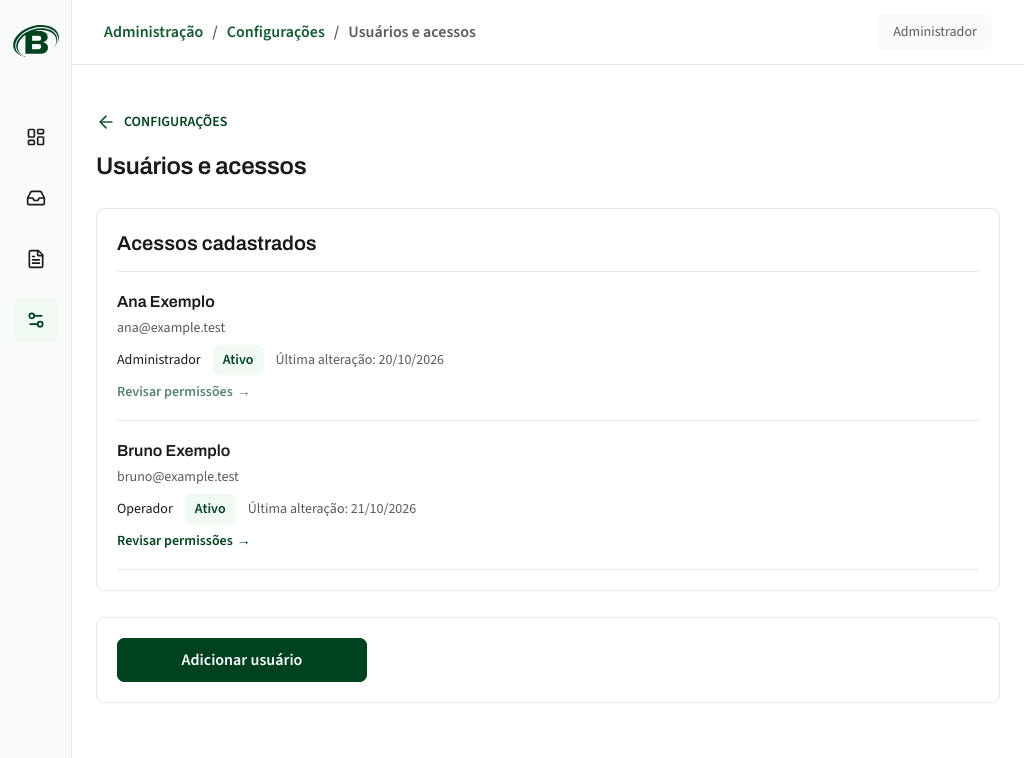
Test: ADM-12 — revisão real de permissões › altera o perfil via PATCH autenticado, confere a resposta e recarrega a lista
The image size is (1024, 758).
Check: the heading "Bruno Exemplo" is shown, box [117,442,230,459]
Click the button "Revisar permissões" below "Bruno Exemplo" at (184, 541), box [117,531,251,551]
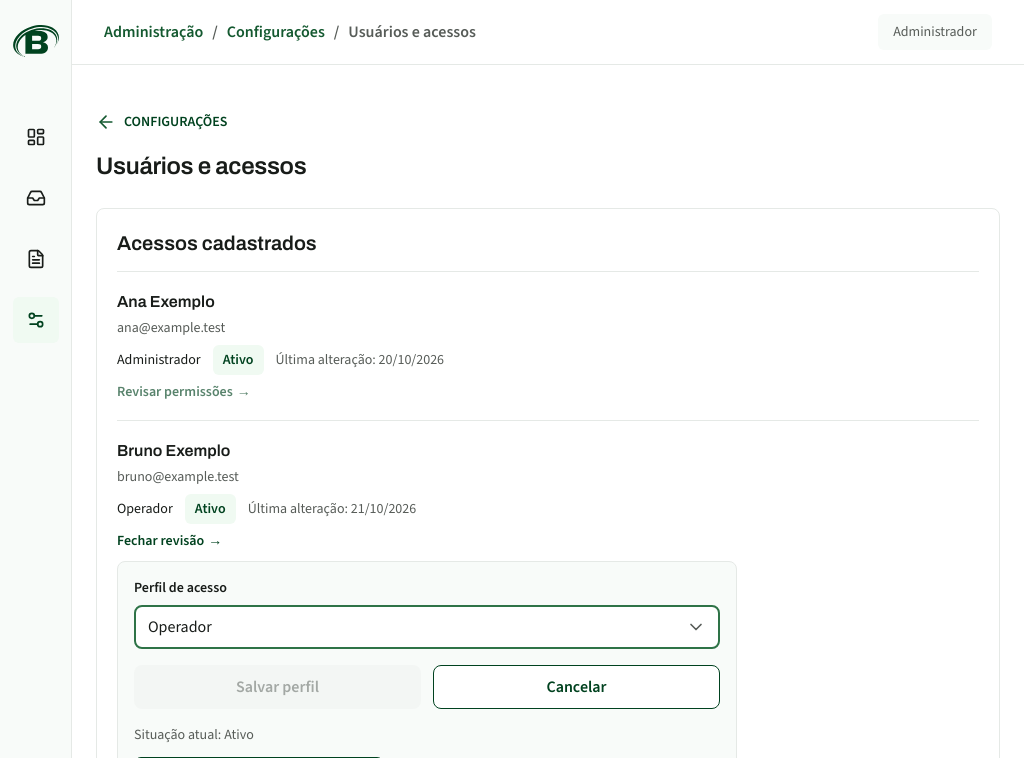
Click the dropdown named "Perfil de acesso" at (180, 626), box [134,605,720,649]
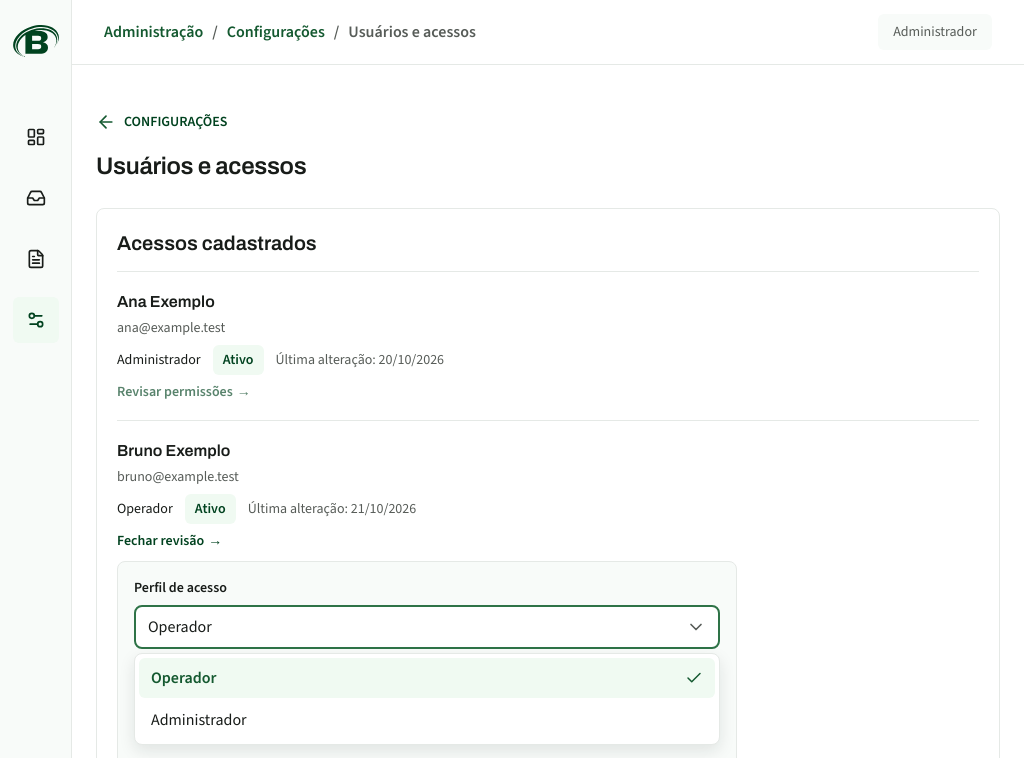
Click the option "Administrador" at (199, 720), box [139,700,715,740]
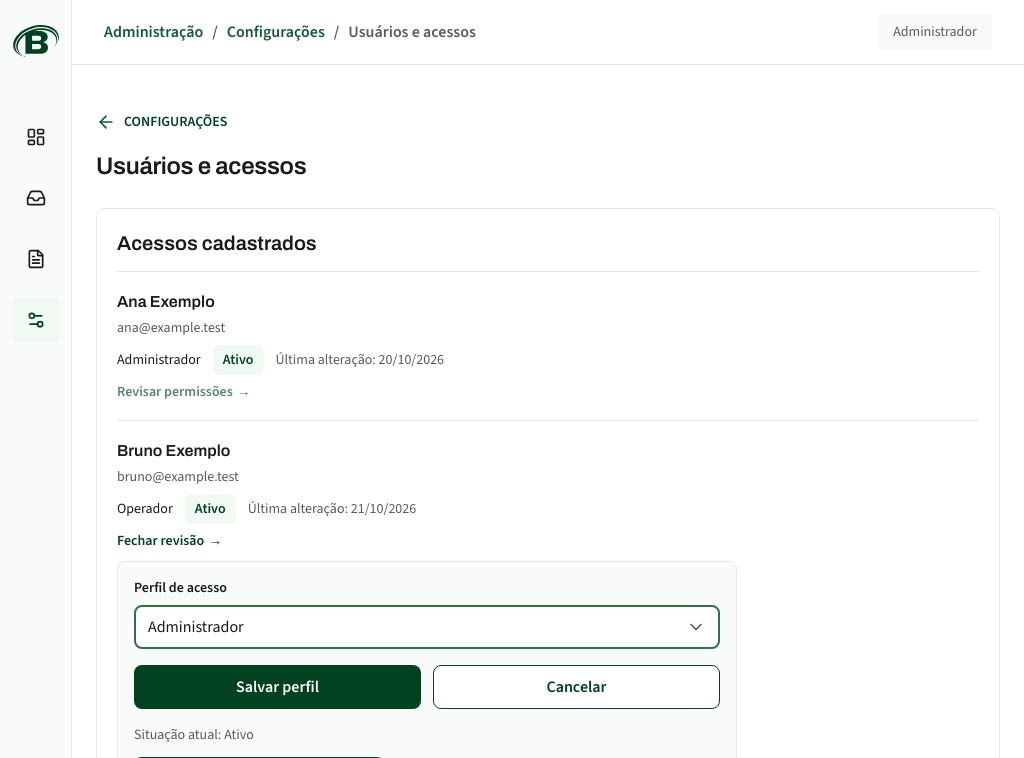
Click the button "Salvar perfil" at (278, 687), box [134,665,421,709]
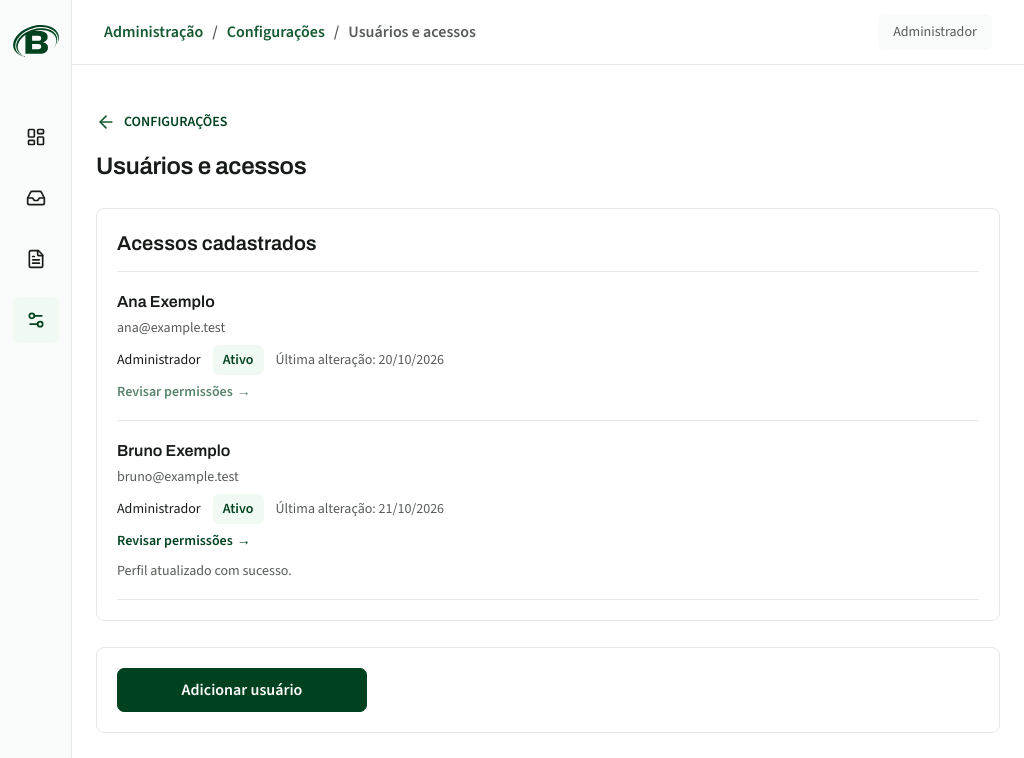
Check: the text "Perfil atualizado com sucesso." is shown, box [117,561,292,581]
Check: the text "Administrador" in the row of "21/10/2026" is shown, box [117,499,201,518]
